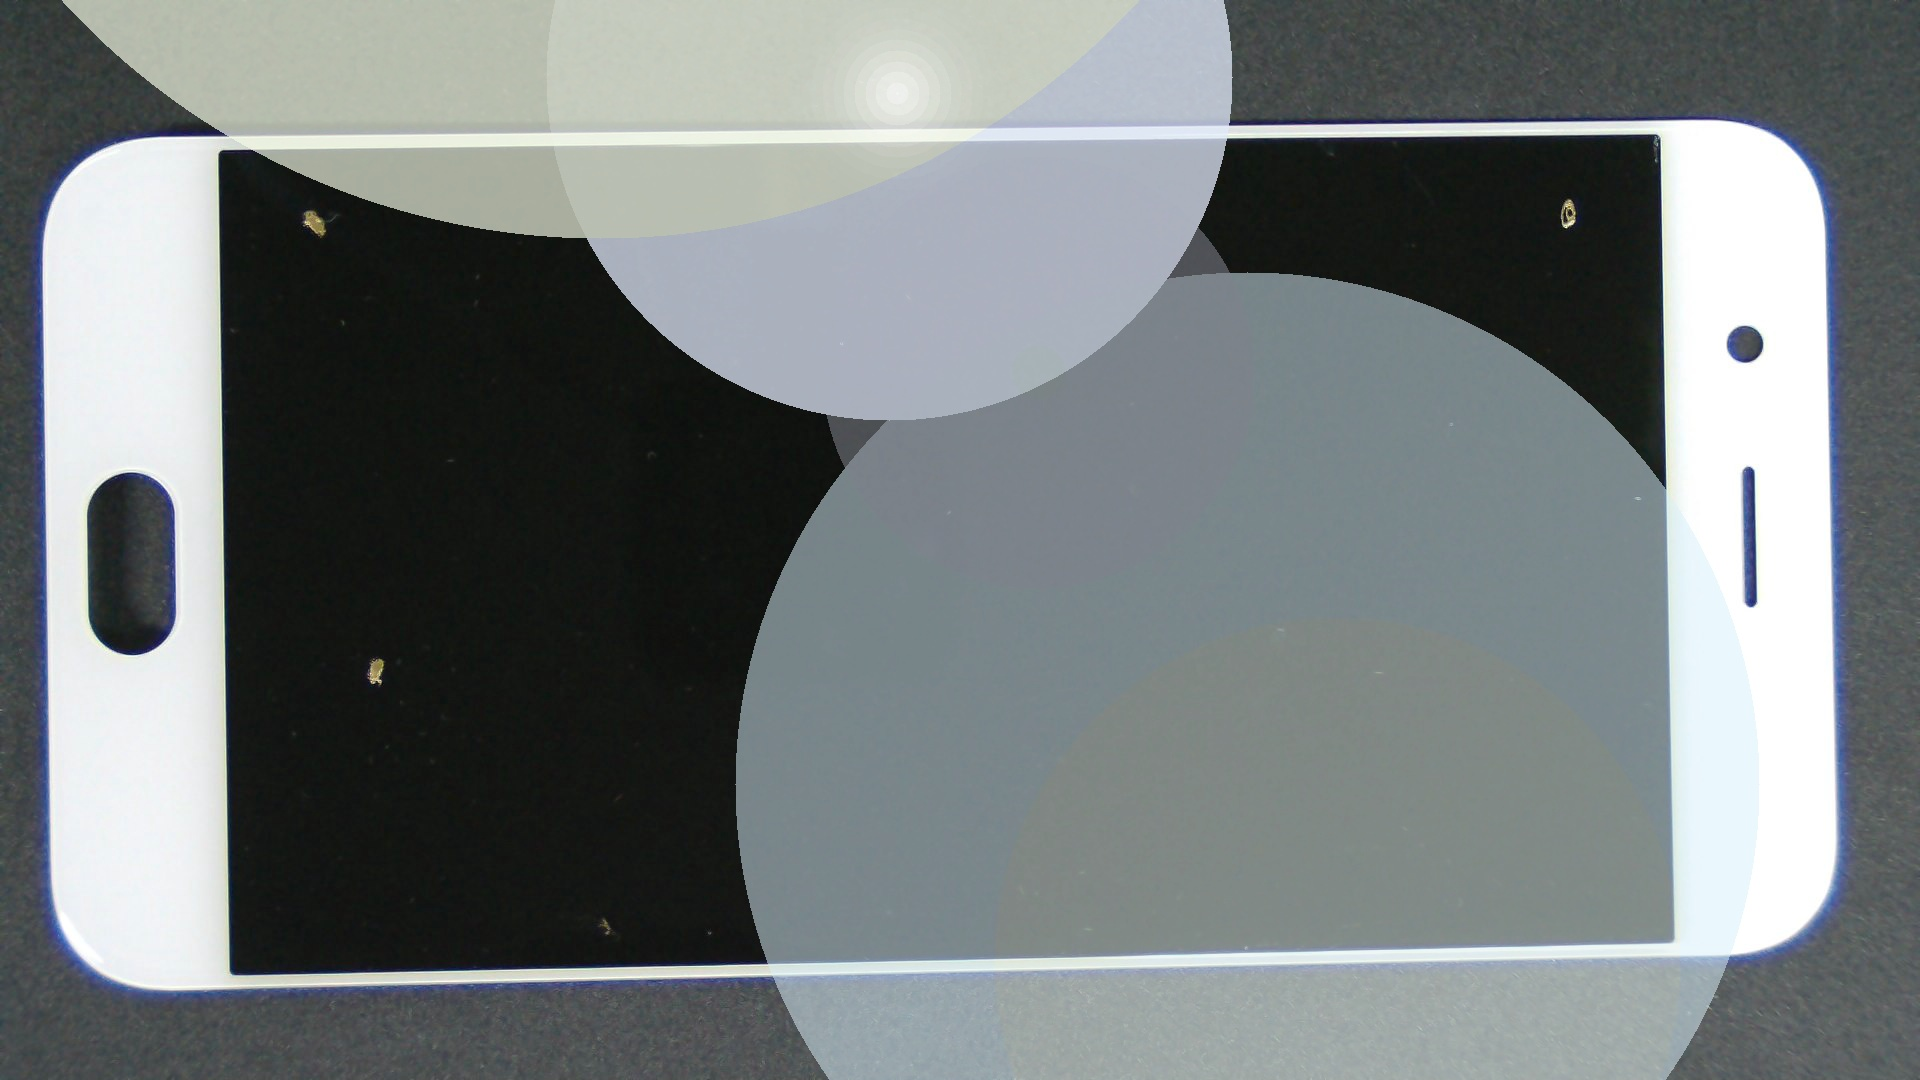oil: (305, 455, 902, 1080), (187, 327, 560, 985), (786, 98, 1920, 295), (157, 104, 468, 314)
